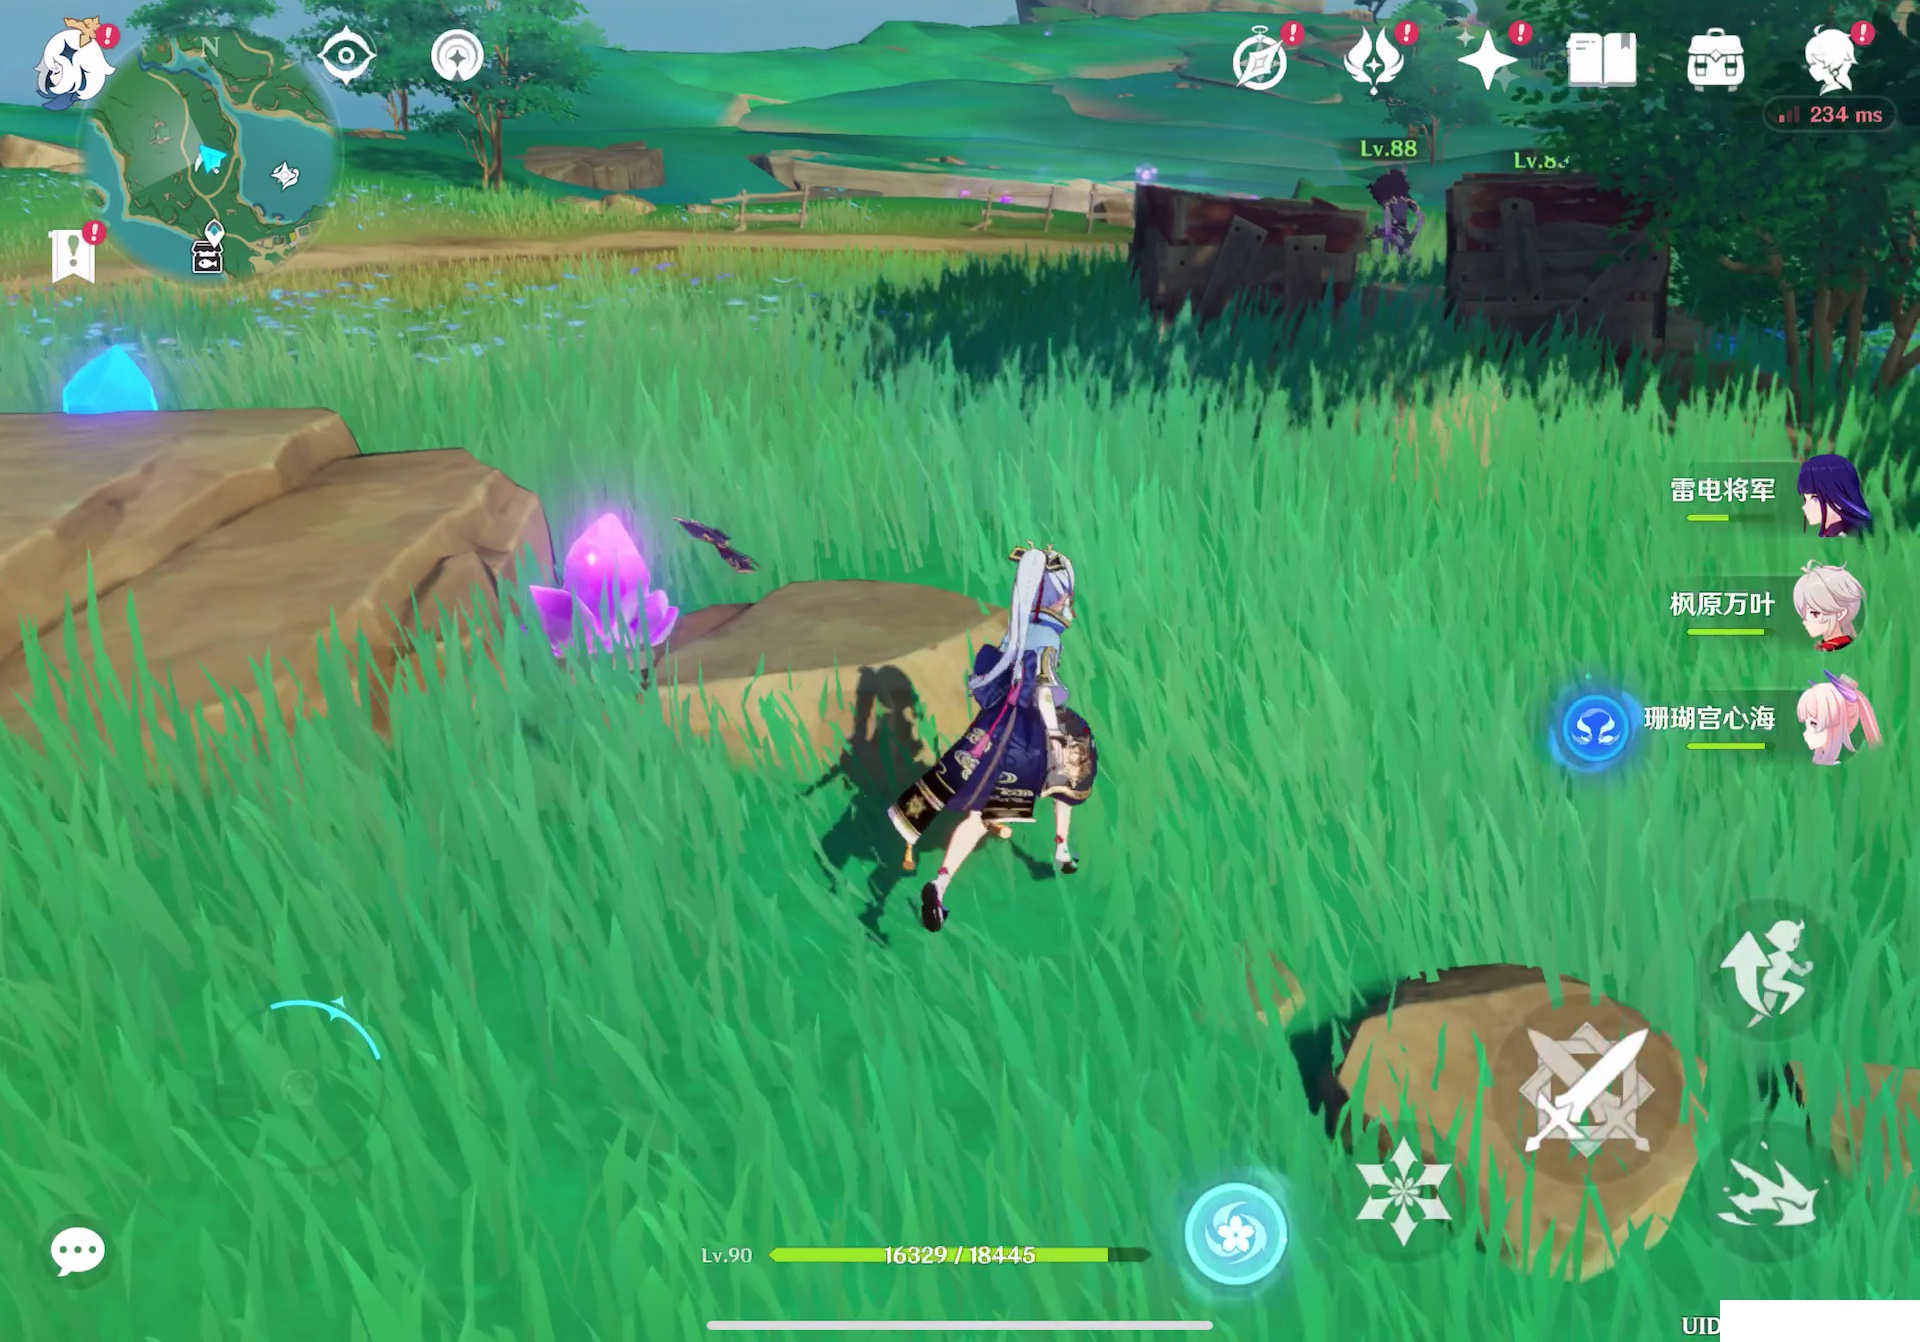丘丘人: (1373, 163, 1425, 265)
神里绫龟: (894, 541, 1122, 918)
紫矿石: (528, 500, 692, 675)
蓝矿石: (47, 322, 178, 438)
